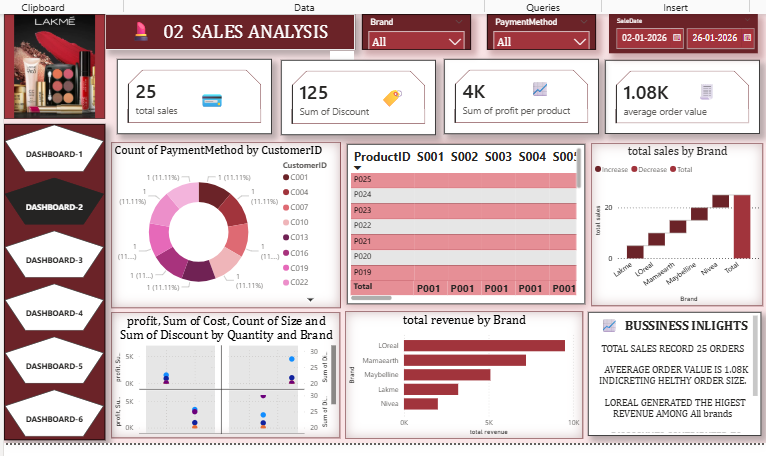

The page's visual inventory and layout, read from the dashboard file:
{"tool":"powerbi","page":{"name":"DASHBOARD-2","canvas":[1280,720],"ordinal":1},"visuals":[{"type":"textbox","box":[169.7,0,419.9,60.5],"z":0},{"type":"cardVisual","fields":{"Data":["Customers.average order value"]},"box":[1009.6,77.3,260.4,124.3],"z":1000},{"type":"cardVisual","fields":{"Data":["Sum(Products.profit per product)"]},"box":[739.1,75.6,260.4,126],"z":2000},{"type":"cardVisual","fields":{"Data":["Sum(Sales.Discount)"]},"box":[465.3,77.3,260.4,126],"z":3000},{"type":"cardVisual","fields":{"Data":["Customers.total sales"]},"box":[189.8,75.6,260.4,126],"z":4000},{"type":"donutChart","fields":{"Y":["CountNonNull(Sales.PaymentMethod)"],"Category":["Sales.CustomerID"]},"box":[179.7,215,386.4,278.8],"z":5000},{"type":"lineChart","fields":{"Category":["Sales.Quantity"],"Y":["Customers.profit","Sum(Products.Cost)","CountNonNull(Products.Size)"],"Rows":["Products.Brand"],"Y2":["Sum(Sales.Discount)"]},"box":[179.7,500.6,384.7,211.7],"z":6000},{"type":"clusteredBarChart","fields":{"Category":["Products.Brand"],"Y":["Customers.total revenue"]},"box":[572.8,498.9,399.8,215],"z":7000},{"type":"pivotTable","fields":{"Rows":["Products.ProductID"],"Columns":["Returns.SaleID"],"Values":["Min(Suppliers.ProductSupplied)"]},"box":[576.2,218.4,399.8,268.8],"z":8000},{"type":"slicer","fields":{"Values":["Sales.SaleDate"]},"box":[1016.3,0,250.3,65.5],"z":9000},{"type":"slicer","fields":{"Values":["Products.Brand"]},"box":[601.4,0,183.1,60.5],"z":10000},{"type":"slicer","fields":{"Values":["Sales.PaymentMethod"]},"box":[811.3,0,183.1,60.5],"z":11000},{"type":"pageNavigator","box":[0,184.8,169.7,530.8],"z":12000},{"type":"image","box":[0,0,169.7,176.4],"z":13000},{"type":"textbox","box":[981,500.6,290.6,208.3],"z":14000},{"type":"textbox","box":[319.2,110.9,60.5,60.5],"z":15000},{"type":"textbox","box":[623.2,112.5,58.8,57.1],"z":16000},{"type":"textbox","box":[876.9,114.2,42,10.1],"z":17000},{"type":"textbox","box":[875.2,104.1,47,42],"z":18000},{"type":"textbox","box":[1145.6,105.8,70.6,50.4],"z":19000},{"type":"waterfallChart","fields":{"Y":["Customers.total sales"],"Category":["Products.Brand"]},"box":[986,216.7,288.9,273.8],"z":20000}]}

Visuals, with their boxes on the page's 1280x720 design canvas (x1, y1, x2, y2). These are canvas units, not pixel positions in the 766x456 screenshot, which may show the page scaled, cropped or inside an application window:
textbox: crop(170, 0, 590, 60)
cardVisual - Customers.average order value: crop(1010, 77, 1270, 202)
cardVisual - Sum(Products.profit per product): crop(739, 76, 1000, 202)
cardVisual - Sum(Sales.Discount): crop(465, 77, 726, 203)
cardVisual - Customers.total sales: crop(190, 76, 450, 202)
donutChart - CountNonNull(Sales.PaymentMethod) x Sales.CustomerID: crop(180, 215, 566, 494)
lineChart - Sales.Quantity x Customers.profit: crop(180, 501, 564, 712)
clusteredBarChart - Products.Brand x Customers.total revenue: crop(573, 499, 973, 714)
pivotTable - Products.ProductID x Returns.SaleID: crop(576, 218, 976, 487)
slicer - Sales.SaleDate: crop(1016, 0, 1267, 66)
slicer - Products.Brand: crop(601, 0, 784, 60)
slicer - Sales.PaymentMethod: crop(811, 0, 994, 60)
pageNavigator: crop(0, 185, 170, 716)
image: crop(0, 0, 170, 176)
textbox: crop(981, 501, 1272, 709)
textbox: crop(319, 111, 380, 171)
textbox: crop(623, 112, 682, 170)
textbox: crop(877, 114, 919, 124)
textbox: crop(875, 104, 922, 146)
textbox: crop(1146, 106, 1216, 156)
waterfallChart - Customers.total sales x Products.Brand: crop(986, 217, 1275, 490)
